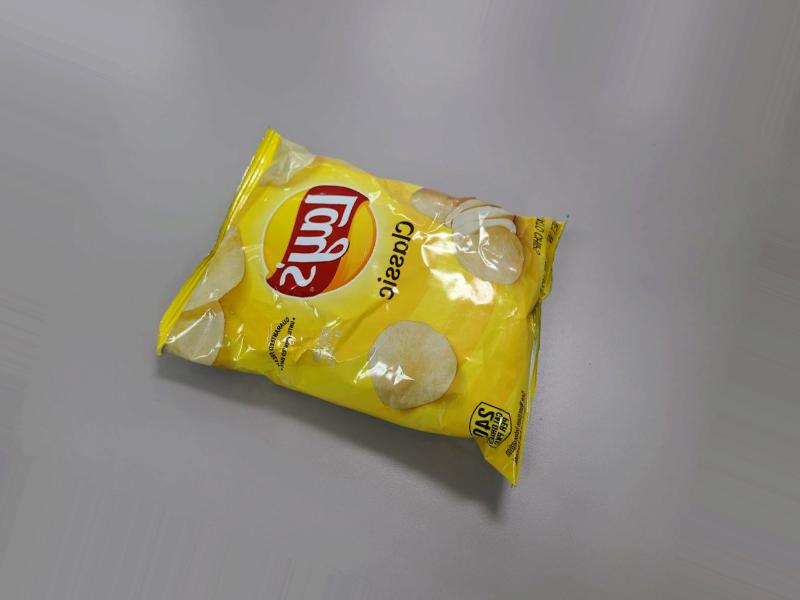lays: (175, 102, 535, 503)
